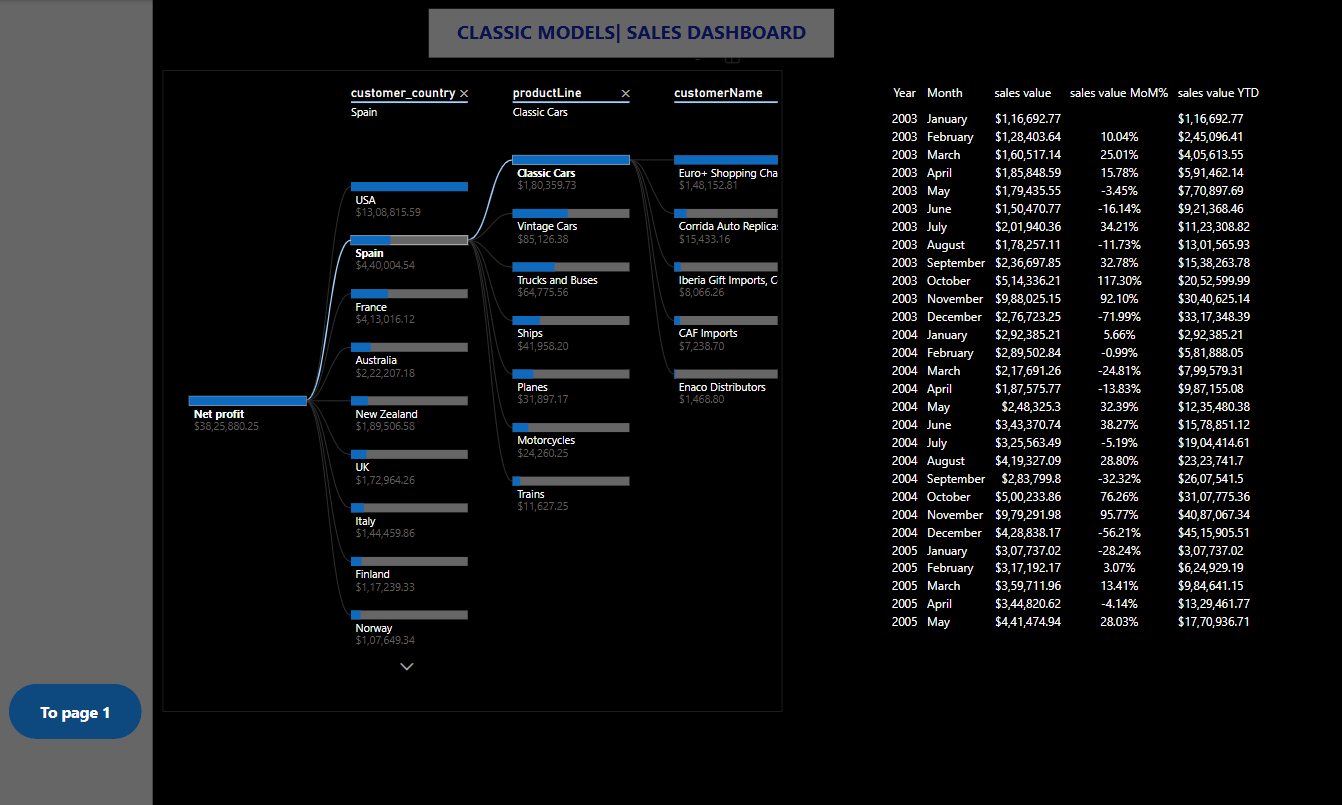

This screenshot's page, from the dashboard's own definition file:
{"tool":"powerbi","page":{"name":"Sales overview page 2","canvas":[1500,900],"ordinal":1},"visuals":[{"type":"shape","box":[0,0,170,900.5],"z":0},{"type":"decompositionTreeVisual","fields":{"Analyze":["classicmodels sales_data_for_power_bi.Net profit"],"ExplainBy":["classicmodels sales_data_for_power_bi.customer_country","classicmodels sales_data_for_power_bi.productLine","classicmodels sales_data_for_power_bi.customerName"]},"box":[180.9,77.9,689.7,714.7],"z":1000},{"type":"tableEx","fields":{"Values":["classicmodels sales_data_for_power_bi.orderDate.Variation.Date Hierarchy.Year","classicmodels sales_data_for_power_bi.orderDate.Variation.Date Hierarchy.Month","Sum(classicmodels sales_data_for_power_bi.sales_value)","classicmodels sales_data_for_power_bi.sales_value MoM%","classicmodels sales_data_for_power_bi.sales_value YTD"]},"box":[980.9,88.2,444.1,642.6],"z":2000},{"type":"textbox","box":[477.9,10.3,451.5,54.4],"z":3000},{"type":"actionButton","box":[10.3,761.8,148.5,61.8],"z":3001}]}

Visuals, with their boxes on the page's 1500x900 design canvas (x1, y1, x2, y2). These are canvas units, not pixel positions in the 1342x805 screenshot, which may show the page scaled, cropped or inside an application window:
shape: [left=0, top=0, right=170, bottom=900]
decompositionTreeVisual - classicmodels sales_data_for_power_bi.Net profit x classicmodels sales_data_for_power_bi.customer_country: [left=181, top=78, right=871, bottom=793]
tableEx - classicmodels sales_data_for_power_bi.orderDate.Variation.Date Hierarchy.Year x classicmodels sales_data_for_power_bi.orderDate.Variation.Date Hierarchy.Month: [left=981, top=88, right=1425, bottom=731]
textbox: [left=478, top=10, right=929, bottom=65]
actionButton: [left=10, top=762, right=159, bottom=824]
